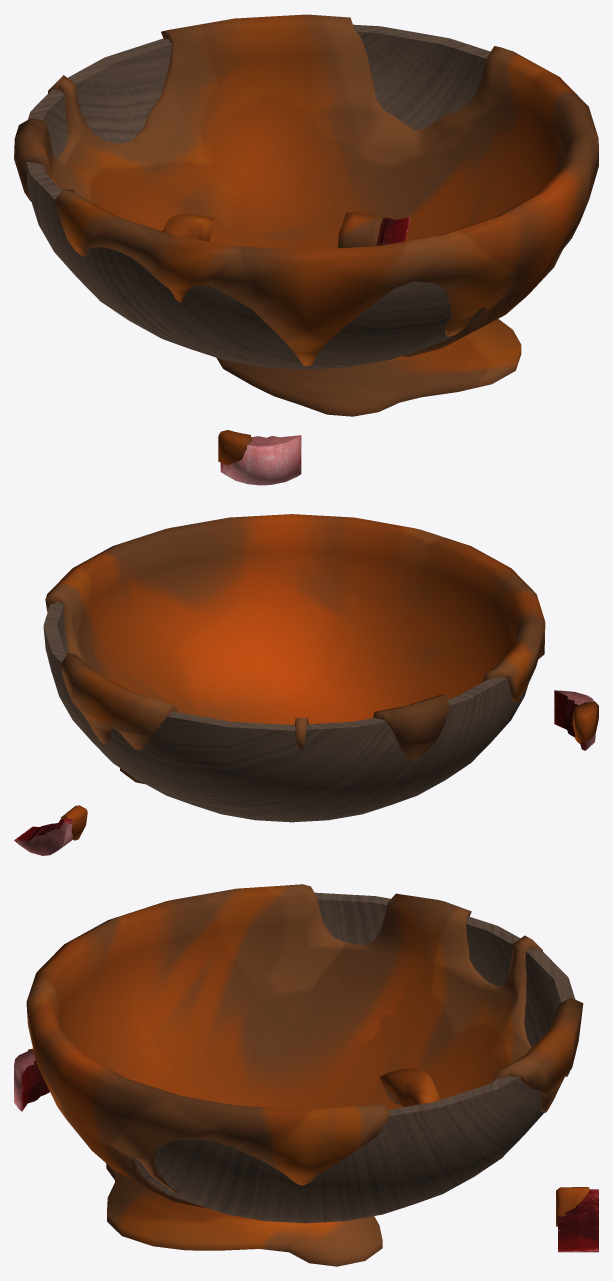
Rendered from FeedAfterEat.fbx.
3 views of the same model, one above another, from view 1: azimuth 30°, elevation 25°; view 2: azimuth 150°, elevation 25°; view 3: azimuth 270°, elevation 25° (orthographic). The views are drawn at different scales.
Parts seen in each view (by area): view 1: feed_after_eat; view 2: feed_after_eat; view 3: feed_after_eat.
Part boxes in pixels (bbox=[...]): feed_after_eat: bbox=[14, 14, 598, 485]; feed_after_eat: bbox=[14, 514, 598, 855]; feed_after_eat: bbox=[14, 884, 598, 1266].
Size of the model in its own units: 0.3075 by 0.1146 by 0.3225.
Materials: 3 (3 with a texture image).
